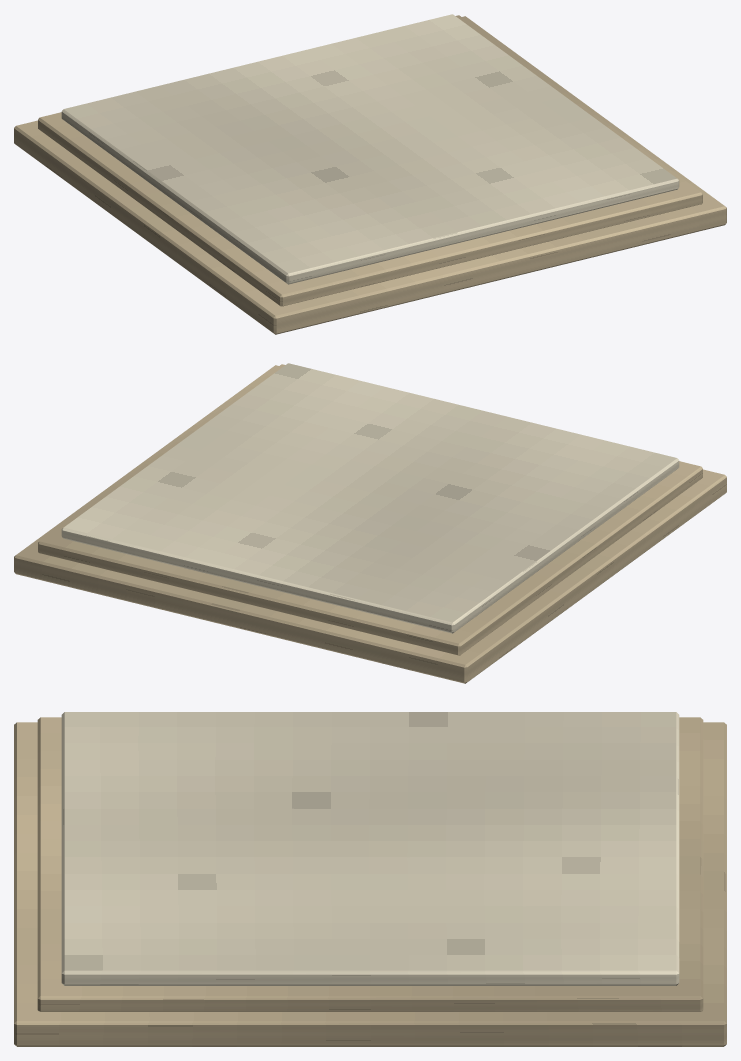
File: StonePlatform.glb
The picture shows the model from 3 angles, top to bottom: view 1: azimuth 30°, elevation 25°; view 2: azimuth 150°, elevation 25°; view 3: azimuth 270°, elevation 25°; orthographic projection. The views are drawn at different scales.
Parts seen in each view (by area): view 1: PlatformTop, LowerCourse, MiddleCourse; view 2: PlatformTop, LowerCourse, MiddleCourse; view 3: PlatformTop, LowerCourse, MiddleCourse.
Part boxes in pixels (box(x1,y1,x2,y2)): PlatformTop: box(61, 14, 679, 284); LowerCourse: box(14, 16, 726, 334); MiddleCourse: box(38, 15, 702, 306); PlatformTop: box(61, 363, 679, 633); LowerCourse: box(14, 365, 726, 683); MiddleCourse: box(38, 364, 702, 655); PlatformTop: box(61, 712, 679, 985); LowerCourse: box(14, 722, 726, 1046); MiddleCourse: box(37, 717, 703, 1011).
Bounding box in the file's own units: 6 × 0.52 × 6.
2 materials, 2 textured.
